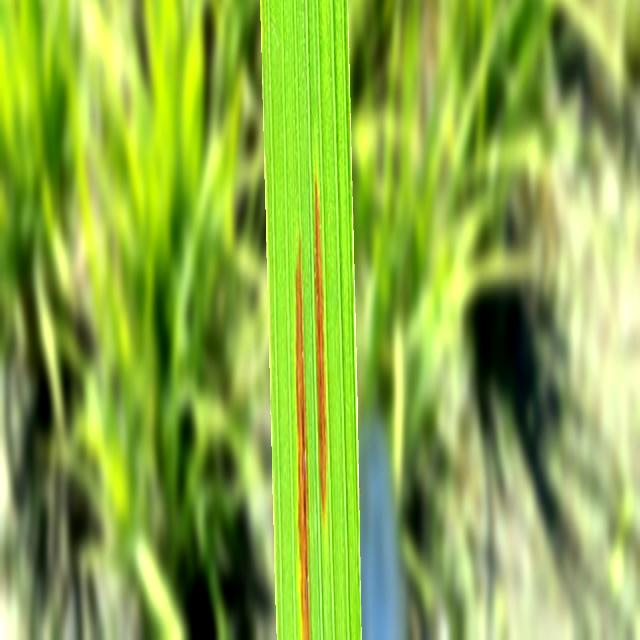NBS: (295, 237, 310, 638), (314, 178, 327, 517)
